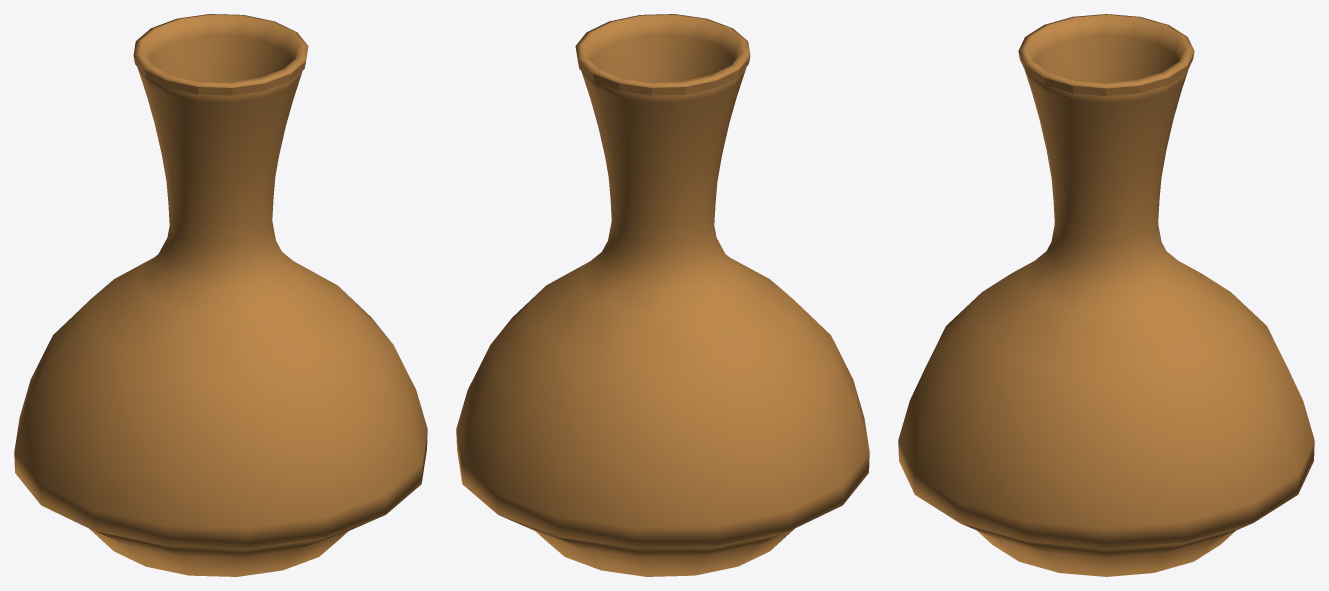
File: Pot_2.fbx
3 views of the same model, side by side, from view 1: azimuth 30°, elevation 25°; view 2: azimuth 150°, elevation 25°; view 3: azimuth 270°, elevation 25° (orthographic).
Visible parts, largest first — view 1: Pot_2; view 2: Pot_2; view 3: Pot_2.
Part boxes in pixels (x1,y1,x2,y2): Pot_2: (14, 14, 427, 576); Pot_2: (456, 14, 869, 576); Pot_2: (898, 14, 1314, 576).
Size of the model in its own units: 0.1196 by 0.1508 by 0.1196.
